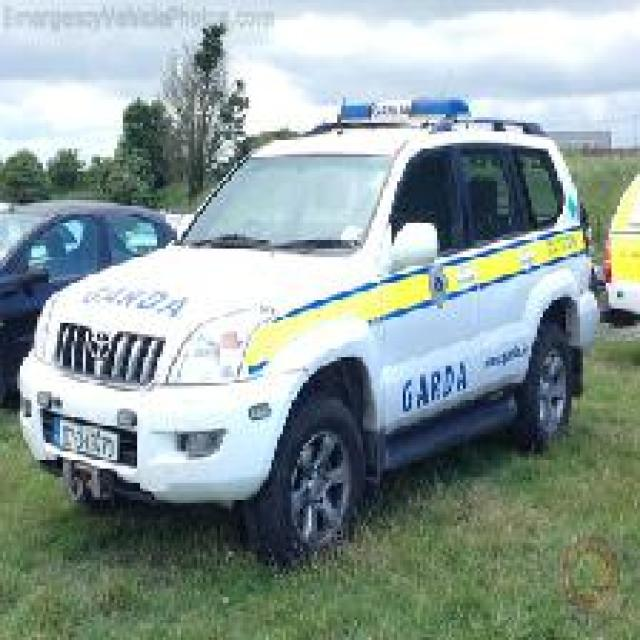Car: (0, 197, 191, 408)
Police-car: (14, 91, 600, 572)
